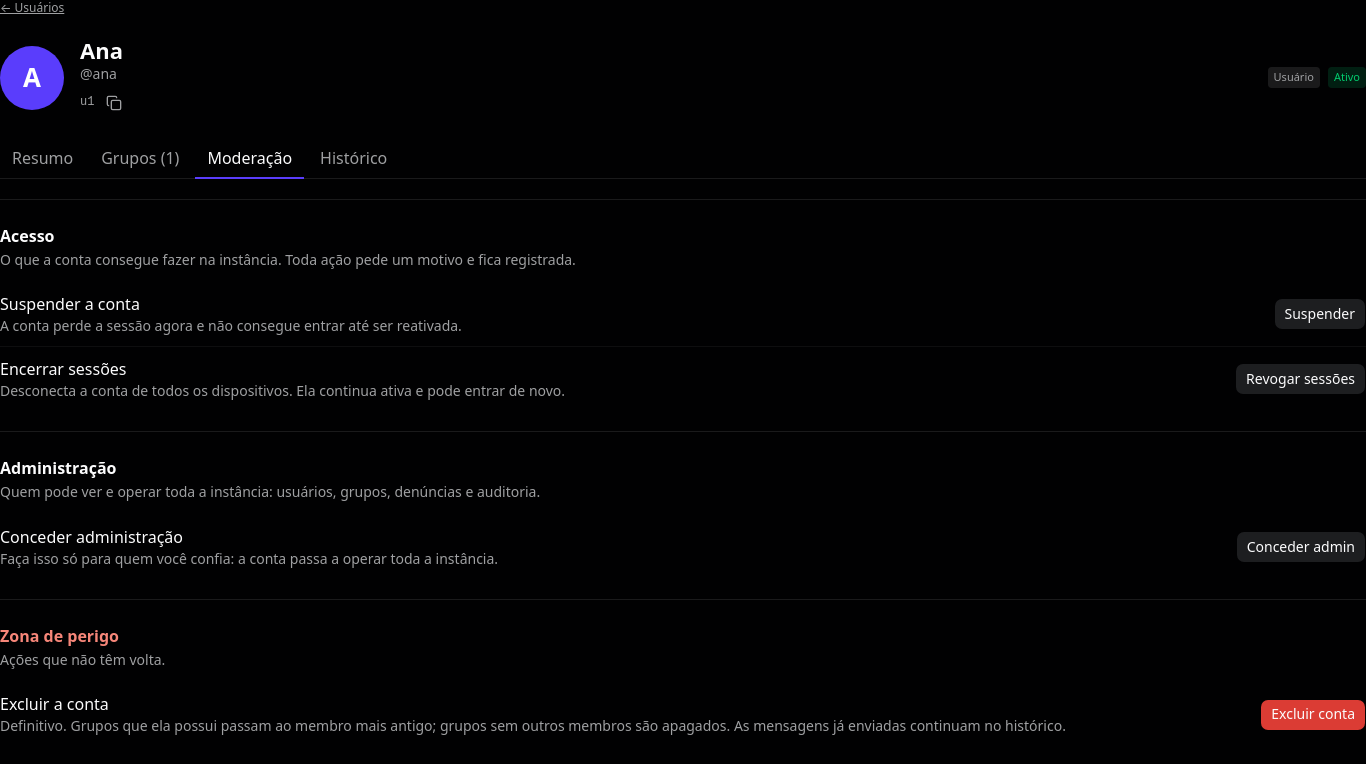
Test case: UserDetailPage › a mutation that succeeded but whose refresh failed says so, and retrying only re-reads
Click the button "Suspender".
click(1320, 314)  # box [1274,298,1365,330]
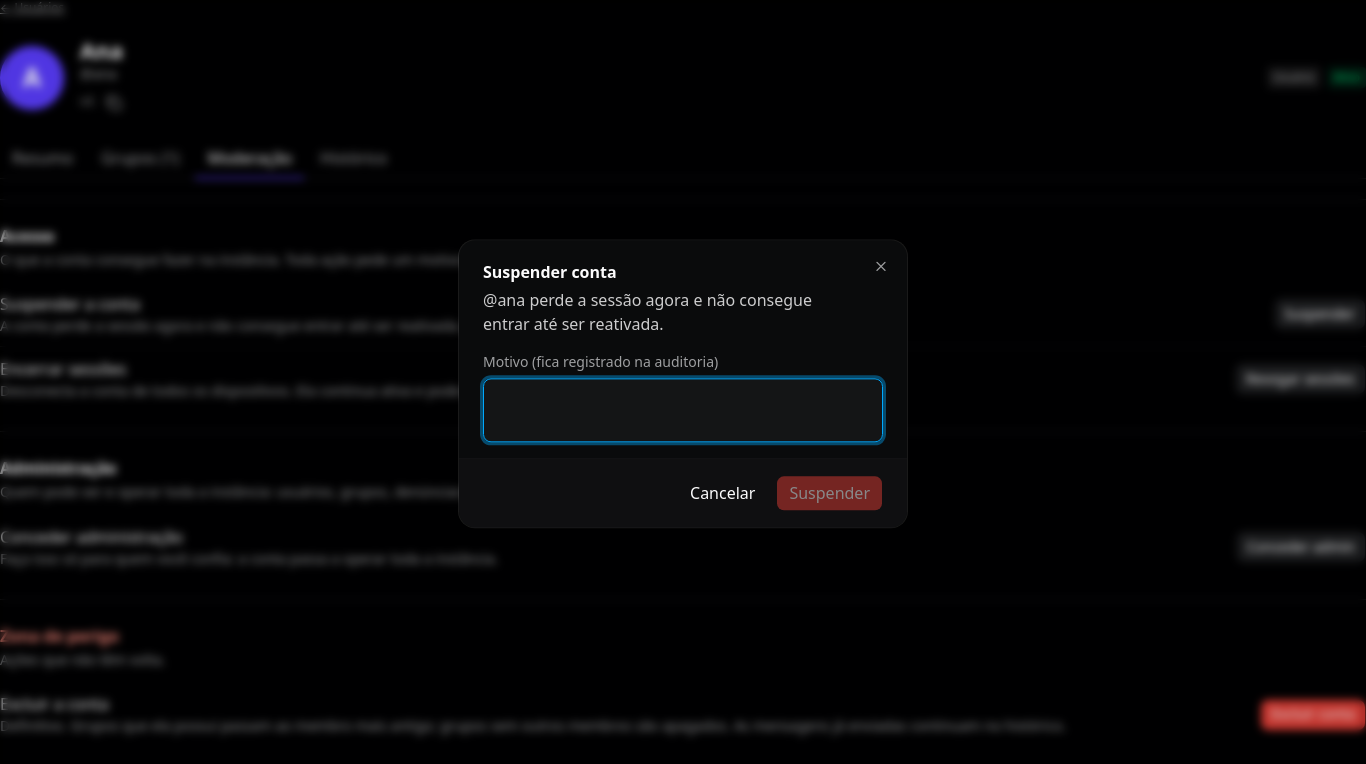
Type "confirmed spam" into the text box labelled "Motivo (fica registrado na auditoria)".
click(683, 411); type("confirmed spam")  # box [483,379,883,443]
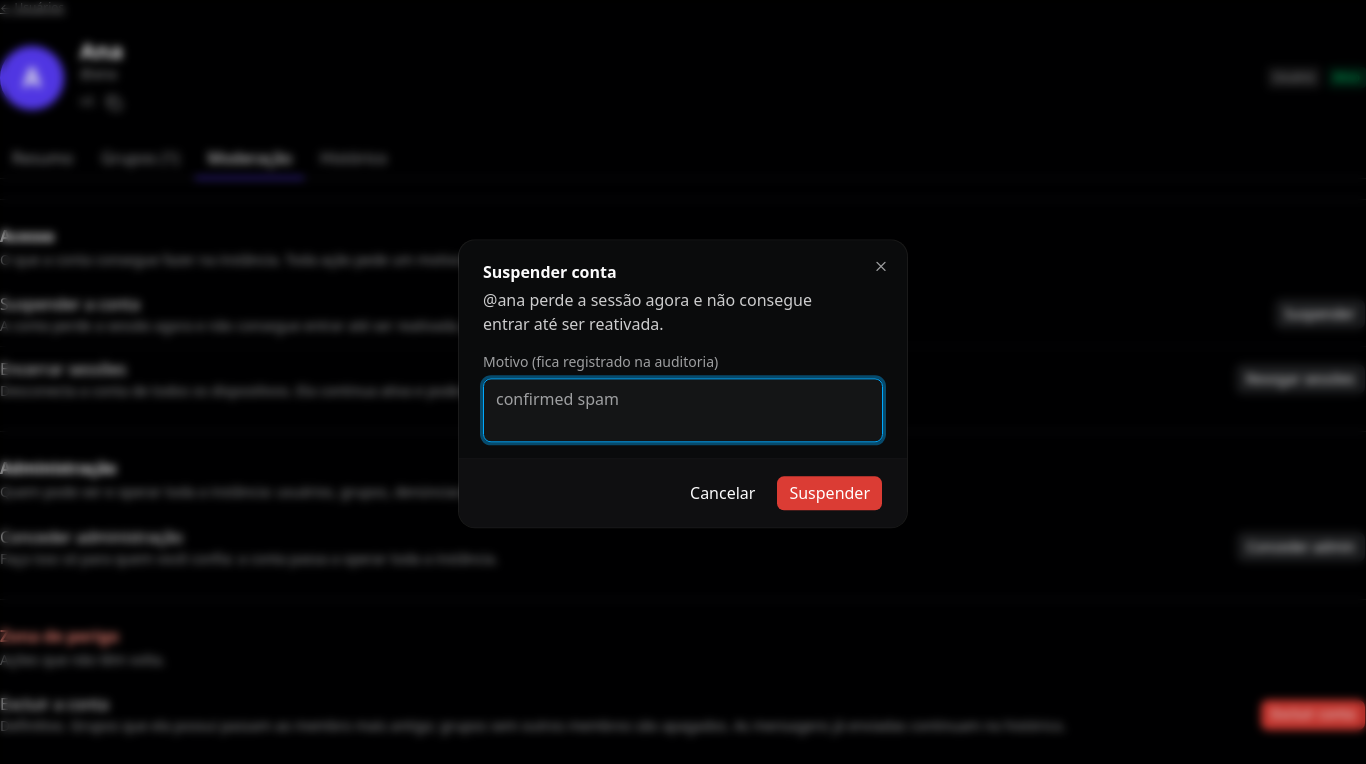
Click the button "Suspender".
click(830, 494)  # box [776,476,883,512]
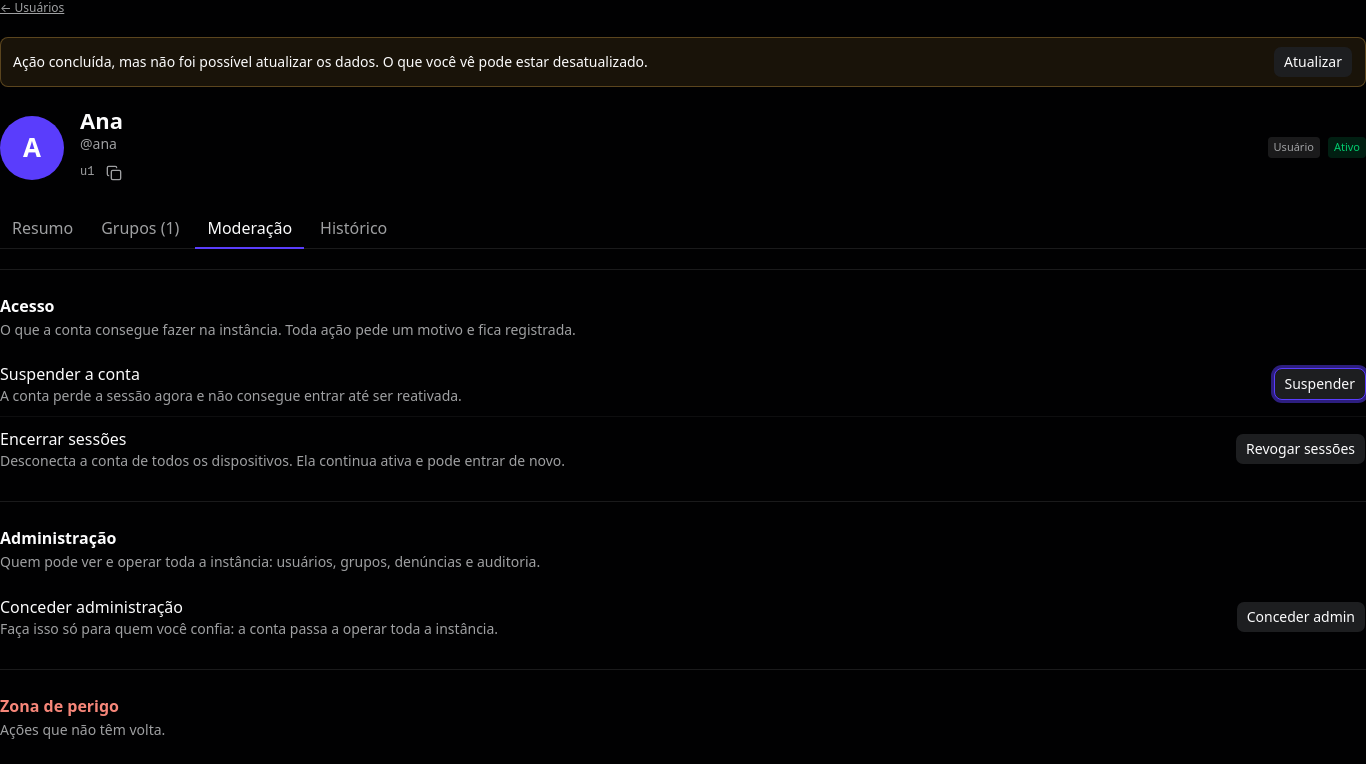
expect the heading "Ana" is shown: met, box [80,105,123,135]
expect the text "Ação concluída, mas não foi possível atualizar" is shown: met, box [13,52,648,71]
Click the button "Atualizar".
click(1313, 62)  # box [1273,46,1353,78]
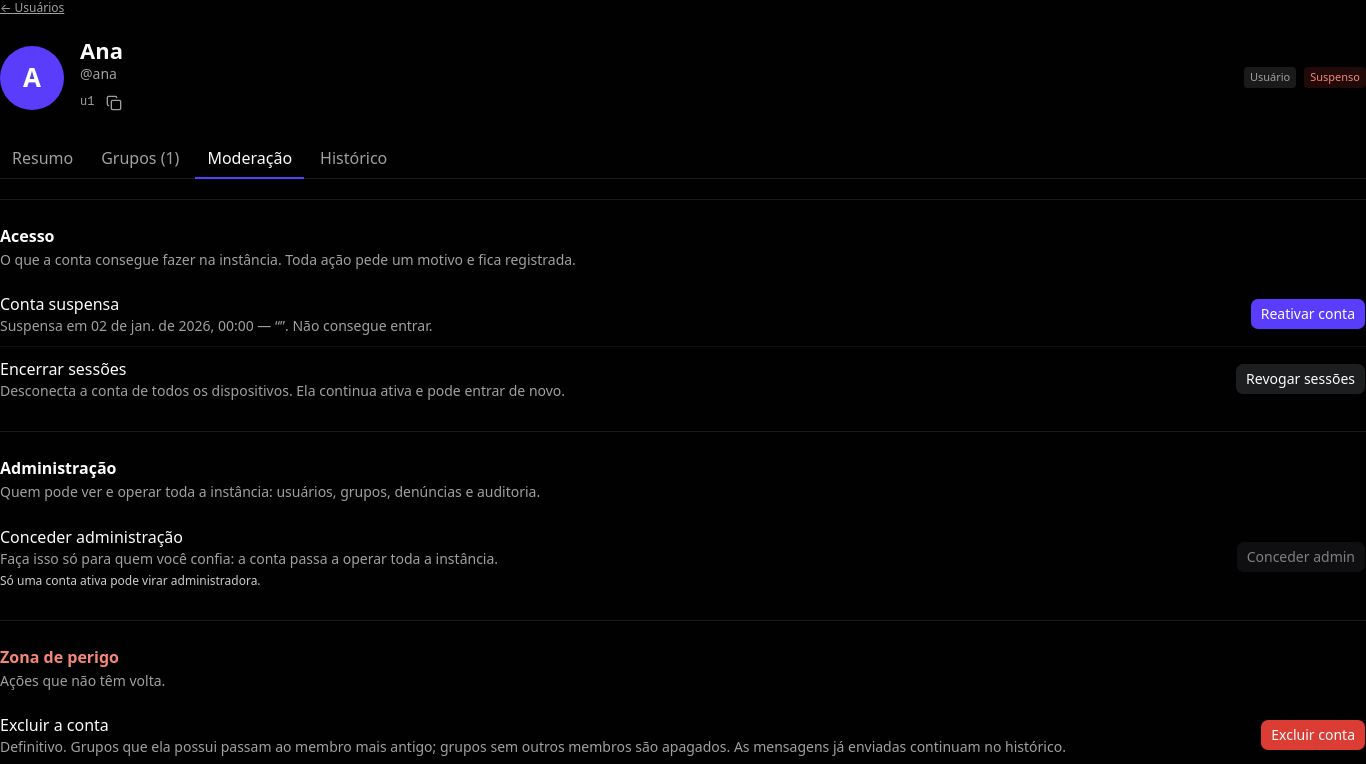
expect the button "Reativar conta" is shown: met, box [1250,298,1365,330]
expect the text "Ação concluída, mas" is gone: met
